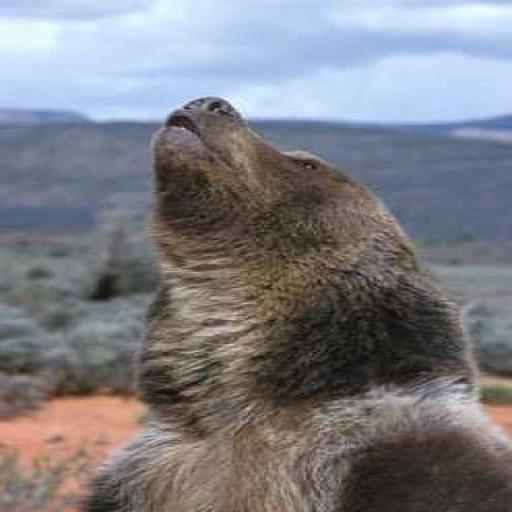Bear: (72, 95, 510, 511)
